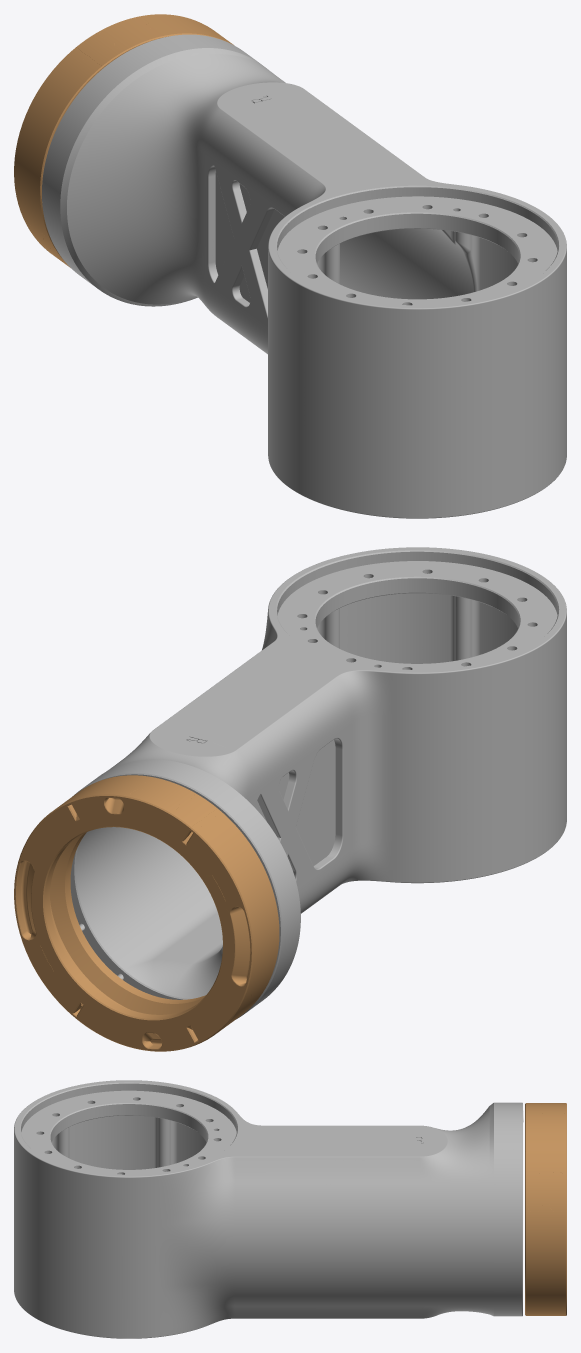
3 renders of one model, top to bottom at view 1: azimuth 30°, elevation 25°; view 2: azimuth 150°, elevation 25°; view 3: azimuth 270°, elevation 25°, orthographic. The views are drawn at different scales.
Parts seen in each view (by area): view 1: left_arm_link3_high, right_arm_link3_high; view 2: left_arm_link3_high, right_arm_link3_high; view 3: left_arm_link3_high, right_arm_link3_high.
Part boxes in pixels (x1=…): left_arm_link3_high: x1=14, y1=14, x2=566, y2=518; right_arm_link3_high: x1=14, y1=14, x2=566, y2=518; left_arm_link3_high: x1=14, y1=547, x2=566, y2=1051; right_arm_link3_high: x1=14, y1=547, x2=566, y2=1051; left_arm_link3_high: x1=14, y1=1080, x2=566, y2=1338; right_arm_link3_high: x1=14, y1=1080, x2=566, y2=1338.
Bounding box in the file's own units: 0.1319 × 0.1226 × 0.317.
